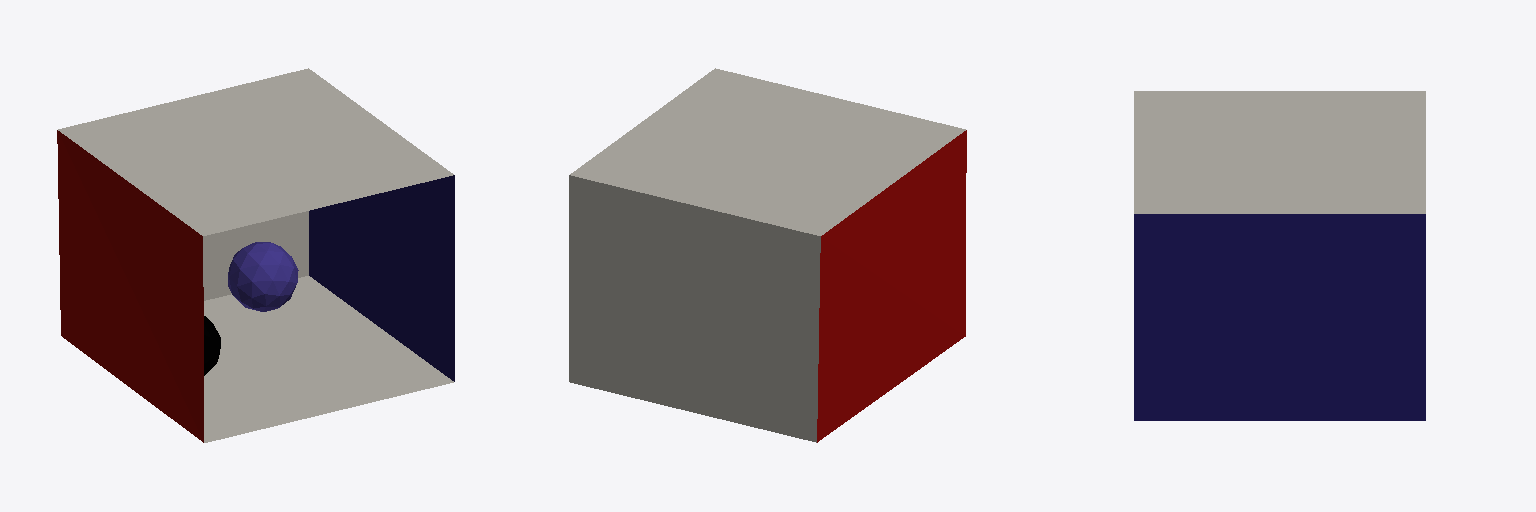
File: CornellBox-Sphere-1180.obj
The picture shows the model from 3 angles: view 1: azimuth 30°, elevation 25°; view 2: azimuth 150°, elevation 25°; view 3: azimuth 270°, elevation 25°; orthographic projection.
Visible parts, largest first — view 1: ceiling, leftWall, floor, rightWall, backWall, leftSphere, rightSphere; view 2: backWall, ceiling, leftWall; view 3: rightWall, ceiling.
Boxes of the visible parts, <box> form: ceiling: <box>58,68,453,235</box>; leftWall: <box>57,130,203,442</box>; floor: <box>204,276,453,442</box>; rightWall: <box>309,175,454,381</box>; backWall: <box>203,211,308,300</box>; leftSphere: <box>228,242,298,311</box>; rightSphere: <box>204,316,220,375</box>; backWall: <box>569,175,820,442</box>; ceiling: <box>570,68,965,235</box>; leftWall: <box>817,130,966,442</box>; rightWall: <box>1134,214,1425,420</box>; ceiling: <box>1134,91,1425,213</box>.
Bounding box in the file's own units: 2.02 × 1.59 × 2.03.